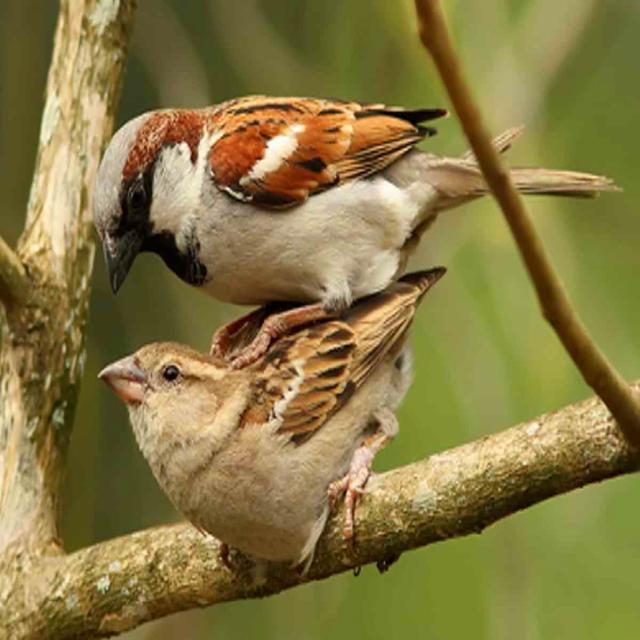sparrow: (94, 95, 490, 364), (100, 267, 444, 569)
